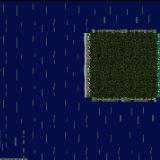Interaction: (0, 146, 33, 160)
Slow: (0, 103, 160, 160), (0, 30, 83, 103), (0, 0, 160, 30)
